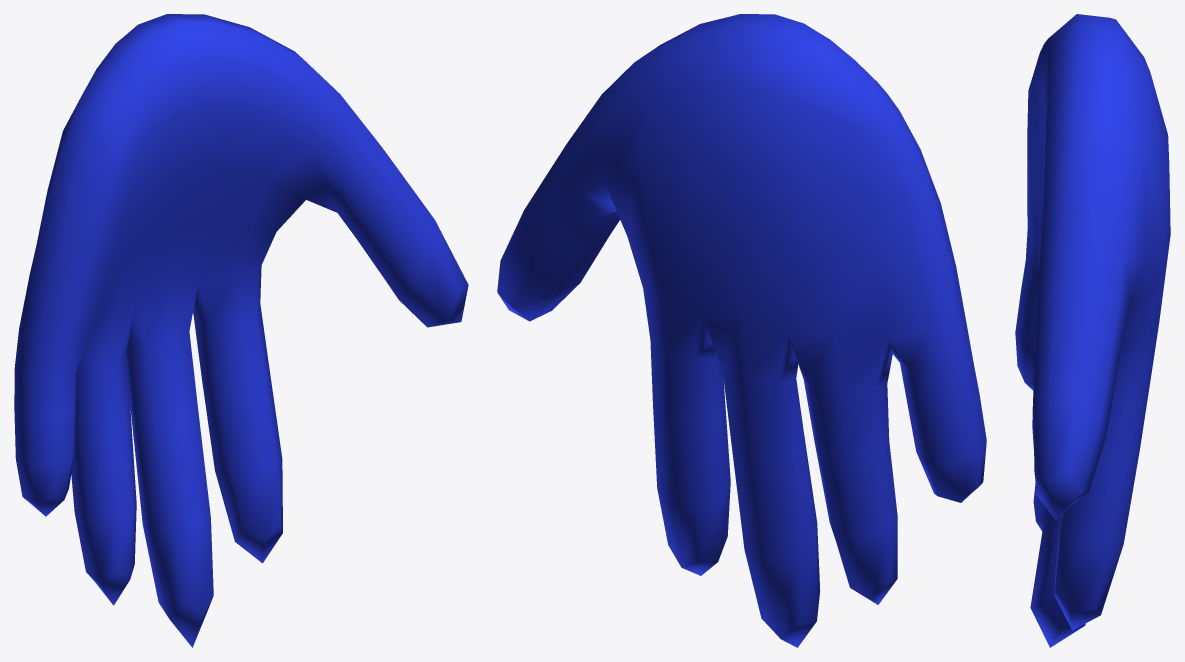
The model's file is Hand.fbx.
3 views of the same model, side by side, from view 1: azimuth 30°, elevation 25°; view 2: azimuth 150°, elevation 25°; view 3: azimuth 270°, elevation 25° (orthographic). The views are drawn at different scales.
Visible parts, largest first — view 1: Hand; view 2: Hand; view 3: Hand.
Part boxes in pixels (x1,y1,x2,y2): Hand: (14, 14, 468, 647); Hand: (497, 14, 986, 647); Hand: (1015, 14, 1170, 647).
Bounding box in the file's own units: 3052 × 3977 × 896.
